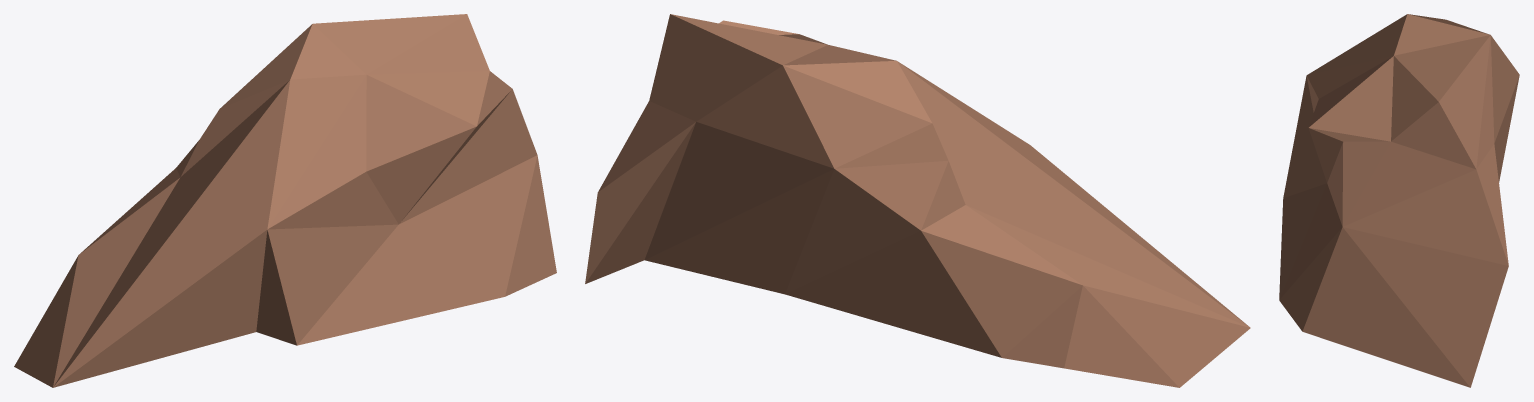
The model's file is 07 Mountain_2.FBX.
3 views of the same model, side by side, from view 1: azimuth 30°, elevation 25°; view 2: azimuth 150°, elevation 25°; view 3: azimuth 270°, elevation 25° (orthographic). The views are drawn at different scales.
Visible parts, largest first — view 1: Mountain_2; view 2: Mountain_2; view 3: Mountain_2.
Part boxes in pixels (x1,y1,x2,y2): Mountain_2: (14, 14, 556, 387); Mountain_2: (585, 14, 1250, 387); Mountain_2: (1279, 14, 1519, 387).
Bounding box in the file's own units: 4465 × 2027 × 1711.
